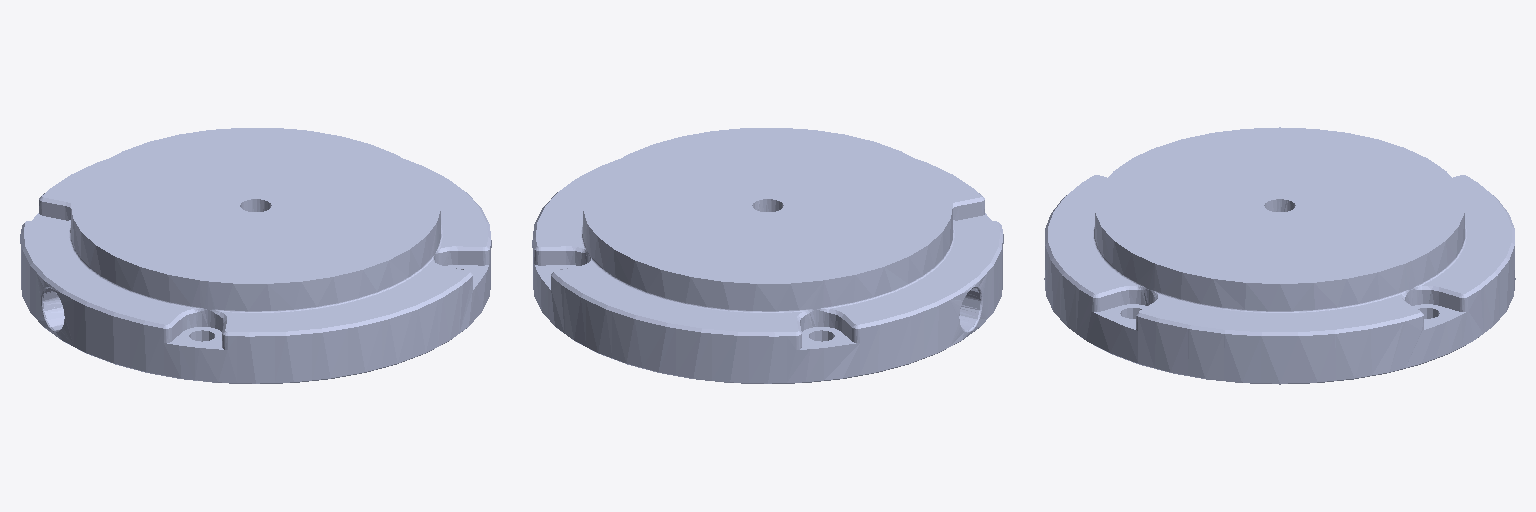
The robot description file, URDF, robot "ec63":
<?xml version="1.0" encoding="utf-8"?>
<robot name="ec63">
    <link name="world" />
    <joint name="world_joint" type="fixed">
        <origin xyz="0 0 0" rpy="0 0 0" />
        <parent link="world" />
        <child link="base_link" />
    </joint>
    <link name="base_link">
    <inertial>
        <origin xyz="6.6025E-05 1.6931E-05 0.036471" rpy="0 0 0" />
        <mass value="0.3647" />
        <inertia ixx="0.00059057" ixy="6.2306E-07" ixz="6.6029E-07" iyy="0.00058934" iyz="-4.8028E-08"
            izz="0.00074656" />
    </inertial>
    <visual>
        <origin xyz="0 0 0" rpy="0 0 0" />
        <geometry>
            <mesh filename="package://elite_description/meshes/ec63/base_link.STL" />
        </geometry>
        <material name="">
            <color rgba="0.79216 0.81961 0.93333 1" />
        </material>
    </visual>
    <collision>
        <origin xyz="0 0 0" rpy="0 0 0" />
        <geometry>
            <mesh filename="package://elite_description/meshes/ec63/base_link.STL" />
        </geometry>
    </collision>
    </link>
    <link name="link1">
    <inertial>
        <origin xyz="-5.9693298609962E-07 0.00718798730554815 0.00130597011750025" rpy="0 0 0" />
        <mass value="1.0468989469595" />
        <inertia ixx="0.00131622835302873" ixy="1.33626024644229E-08" ixz="1.22267487012503E-08"
            iyy="0.00121041697616178" iyz="-0.000167494836949108" izz="0.00140200332966305" />
    </inertial>
    <visual>
        <origin xyz="0 0 0" rpy="0 0 0" />
        <geometry>
            <mesh filename="package://elite_description/meshes/ec63/link1.STL" />
        </geometry>
        <material name="">
            <color rgba="1 1 1 1" />
        </material>
    </visual>
    <collision>
        <origin xyz="0 0 0" rpy="0 0 0" />
        <geometry>
            <mesh filename="package://elite_description/meshes/ec63/link1.STL" />
        </geometry>
    </collision>
    </link>
    <joint name="joint1" type="revolute">
        <origin xyz="0 0 0.14" rpy="0 0 0" />
        <parent link="base_link" />
        <child link="link1" />
        <axis xyz="0 0 1" />
        <limit lower="-6.2832" upper="6.2832" effort="90" velocity="3.3161" />
    </joint>
</robot>

--- What the picture shows (computed from the rendered views, not written in the file) ---
Views: 3 orthographic renders of the robot side by side, from view 1: azimuth 30°, elevation 25°; view 2: azimuth 150°, elevation 25°; view 3: azimuth 270°, elevation 25°.
Robot: ec63 — 3 links, 2 joints (1 revolute, 1 fixed); root link world; default pose: all joints at 0.
Visible links, largest first — view 1: base_link; view 2: base_link; view 3: base_link.
Link boxes in pixels (x1,y1,x2,y2): base_link: (20, 128, 491, 383); base_link: (532, 128, 1003, 383); base_link: (1044, 127, 1515, 384).
Bounding box of the posed robot: 0.15 × 0.1499 × 0.028 m (x, y, z).
1 mesh visuals loaded from 2 distinct referenced files (1 binary STL); not drawn: 1 (reference not matched to a file when rendering).